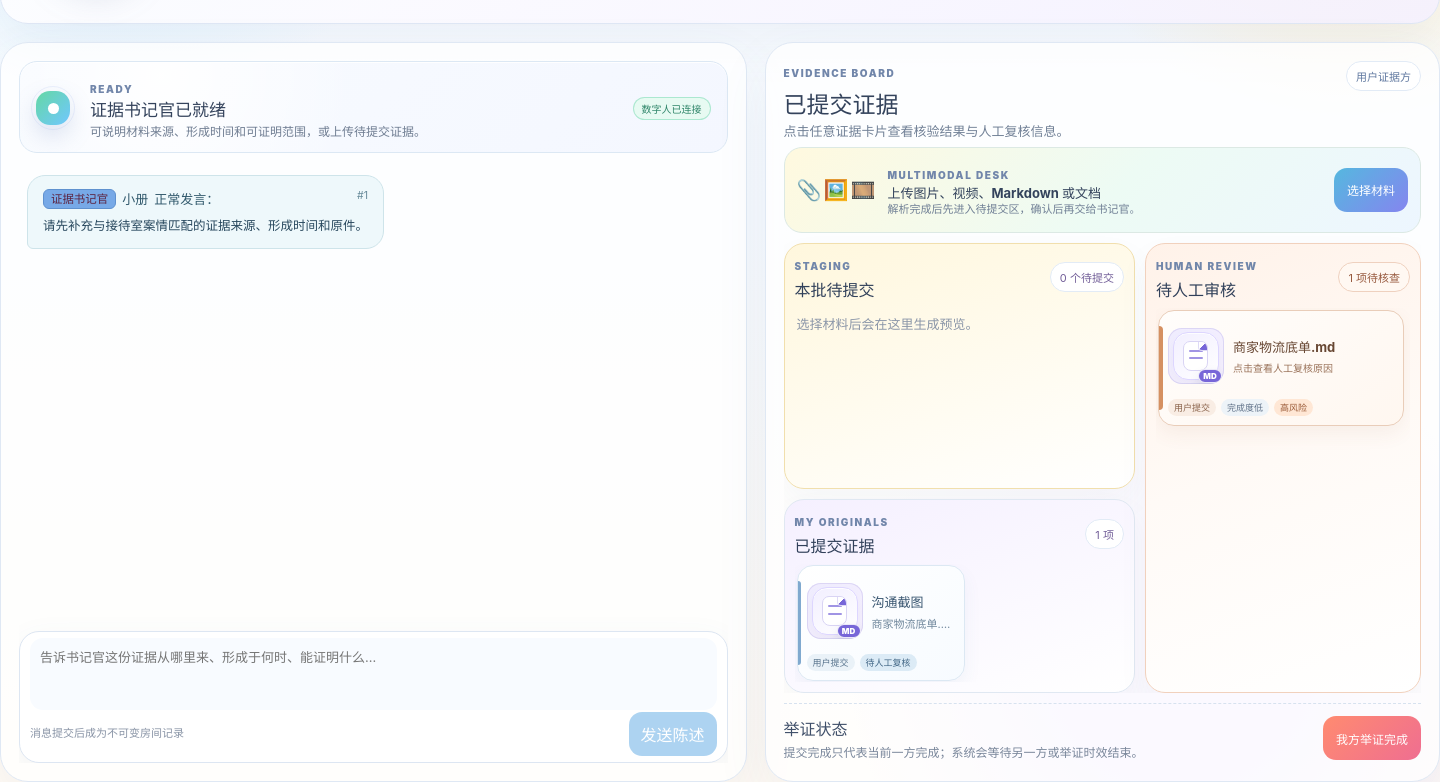
Test: EvidenceRoomView › renders Evidence V3 scores, risk, findings, feedback, and review reasons without duplicate board frames
(page scrolled)
Click the button "MD 沟通截图 商家物流底单.md 用户提交 待人工复核" at coordinates (880, 623), box [796,565,964,681]
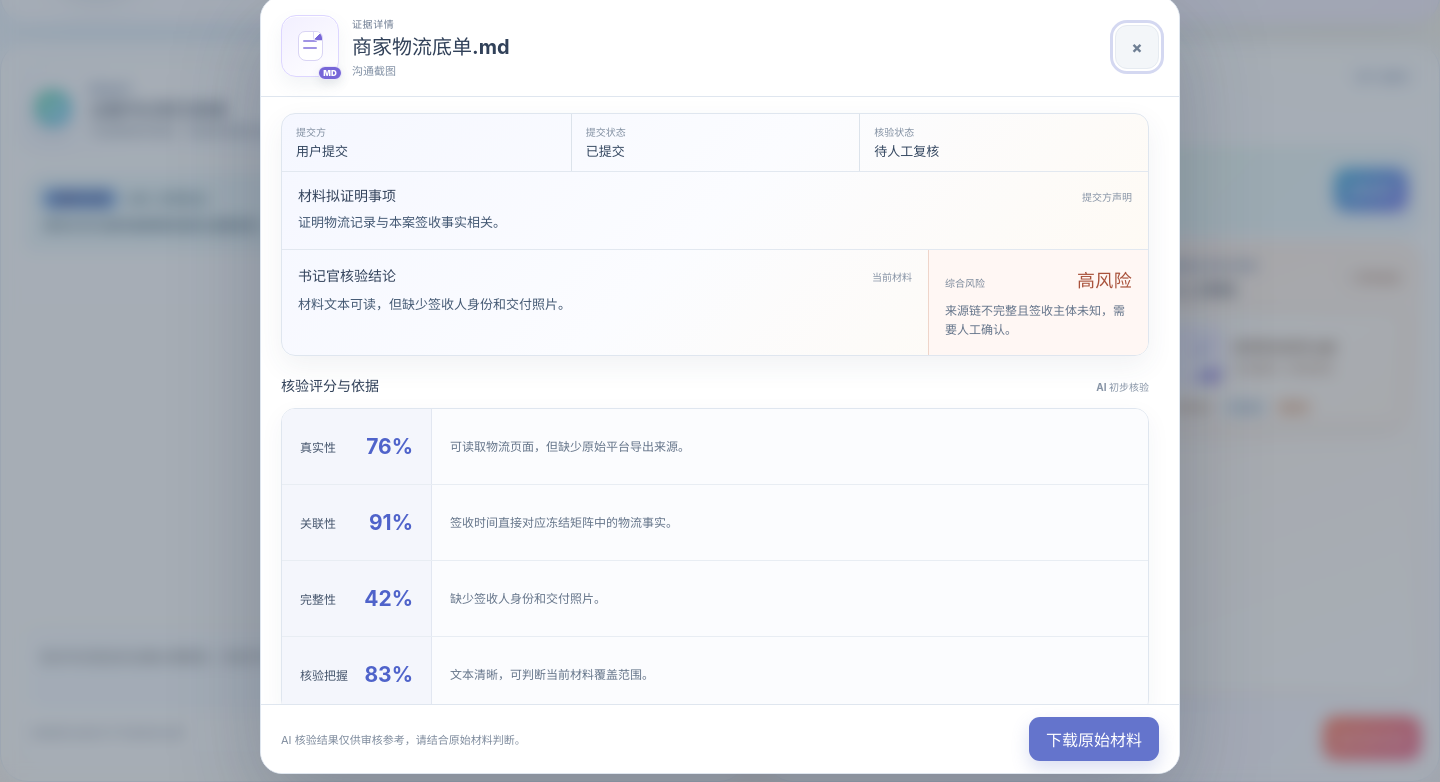
expect the element showing "材料拟证明事项 提交方声明 证明物流记录与本案签收事实相关。" is shown: met, box [282,172,1148,250]
expect the dialog shows "可读取物流页面，但缺少原始平台导出来源。": met, box [450,438,690,454]
expect the dialog shows "来源链不完整且签收主体未知，需要人工确认。": met, box [945,303,1125,337]
Click the button "×" at coordinates (1137, 46), box [1115,24,1159,68]
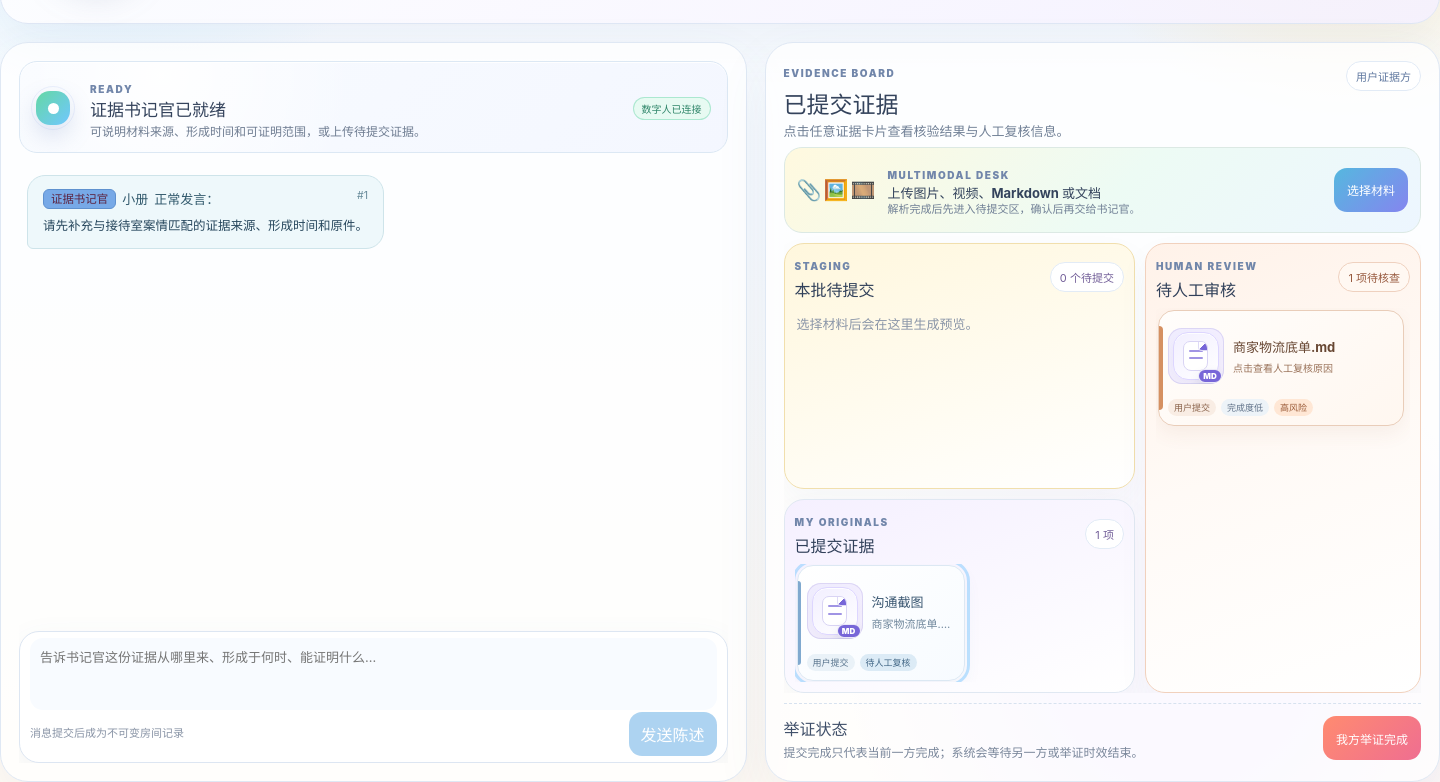
Click the button "MD 商家物流底单.md 点击查看人工复核原因 用户提交 完成度低 高风险" at coordinates (1281, 368), box [1158,310,1404,426]
(page scrolled)
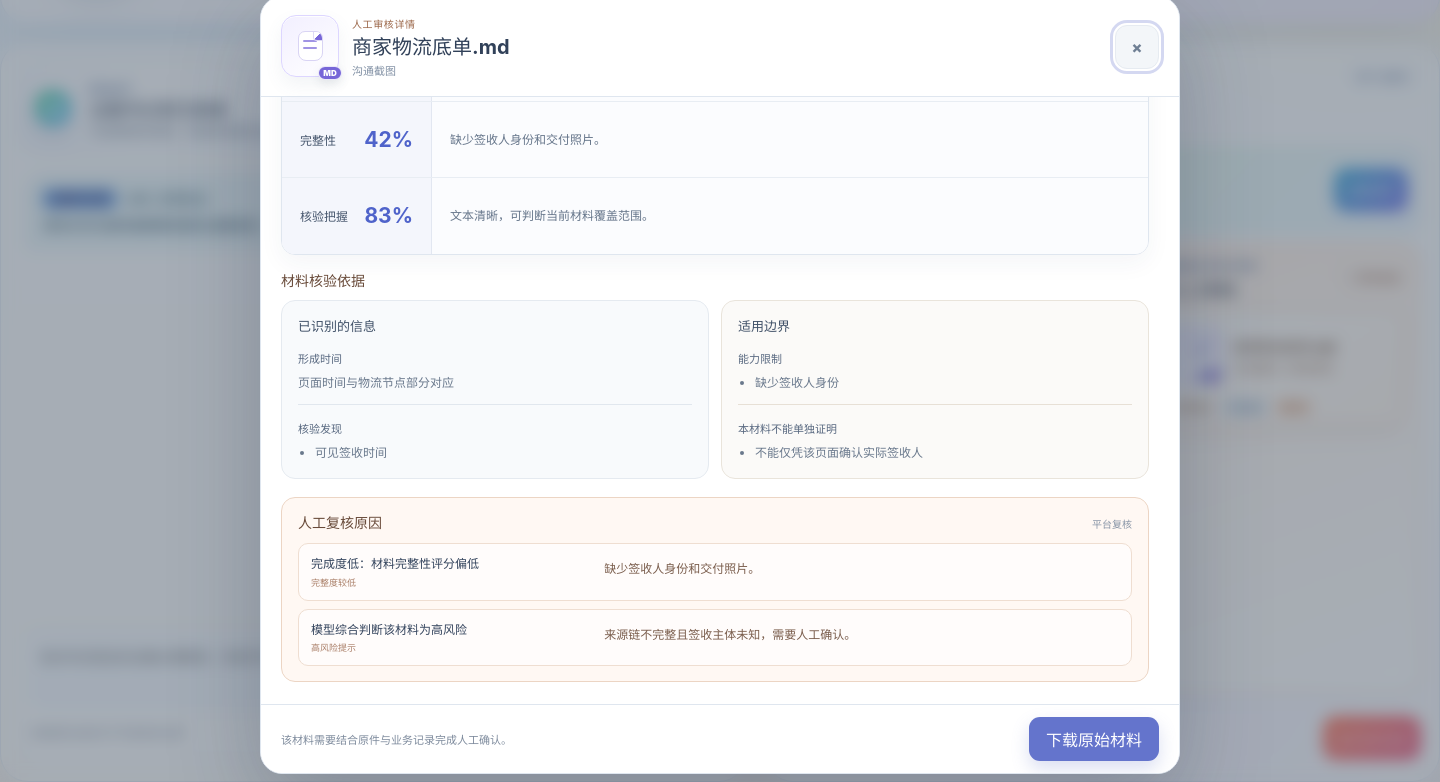
expect the element that starts with "人工复核原因" shows "完整度较低": met, box [311,577,356,588]
expect the element that starts with "人工复核原因" shows "完成度低：材料完整性评分偏低": met, box [311,556,479,571]
expect the element that starts with "人工复核原因" shows "缺少签收人身份和交付照片。": met, box [604,561,760,576]
